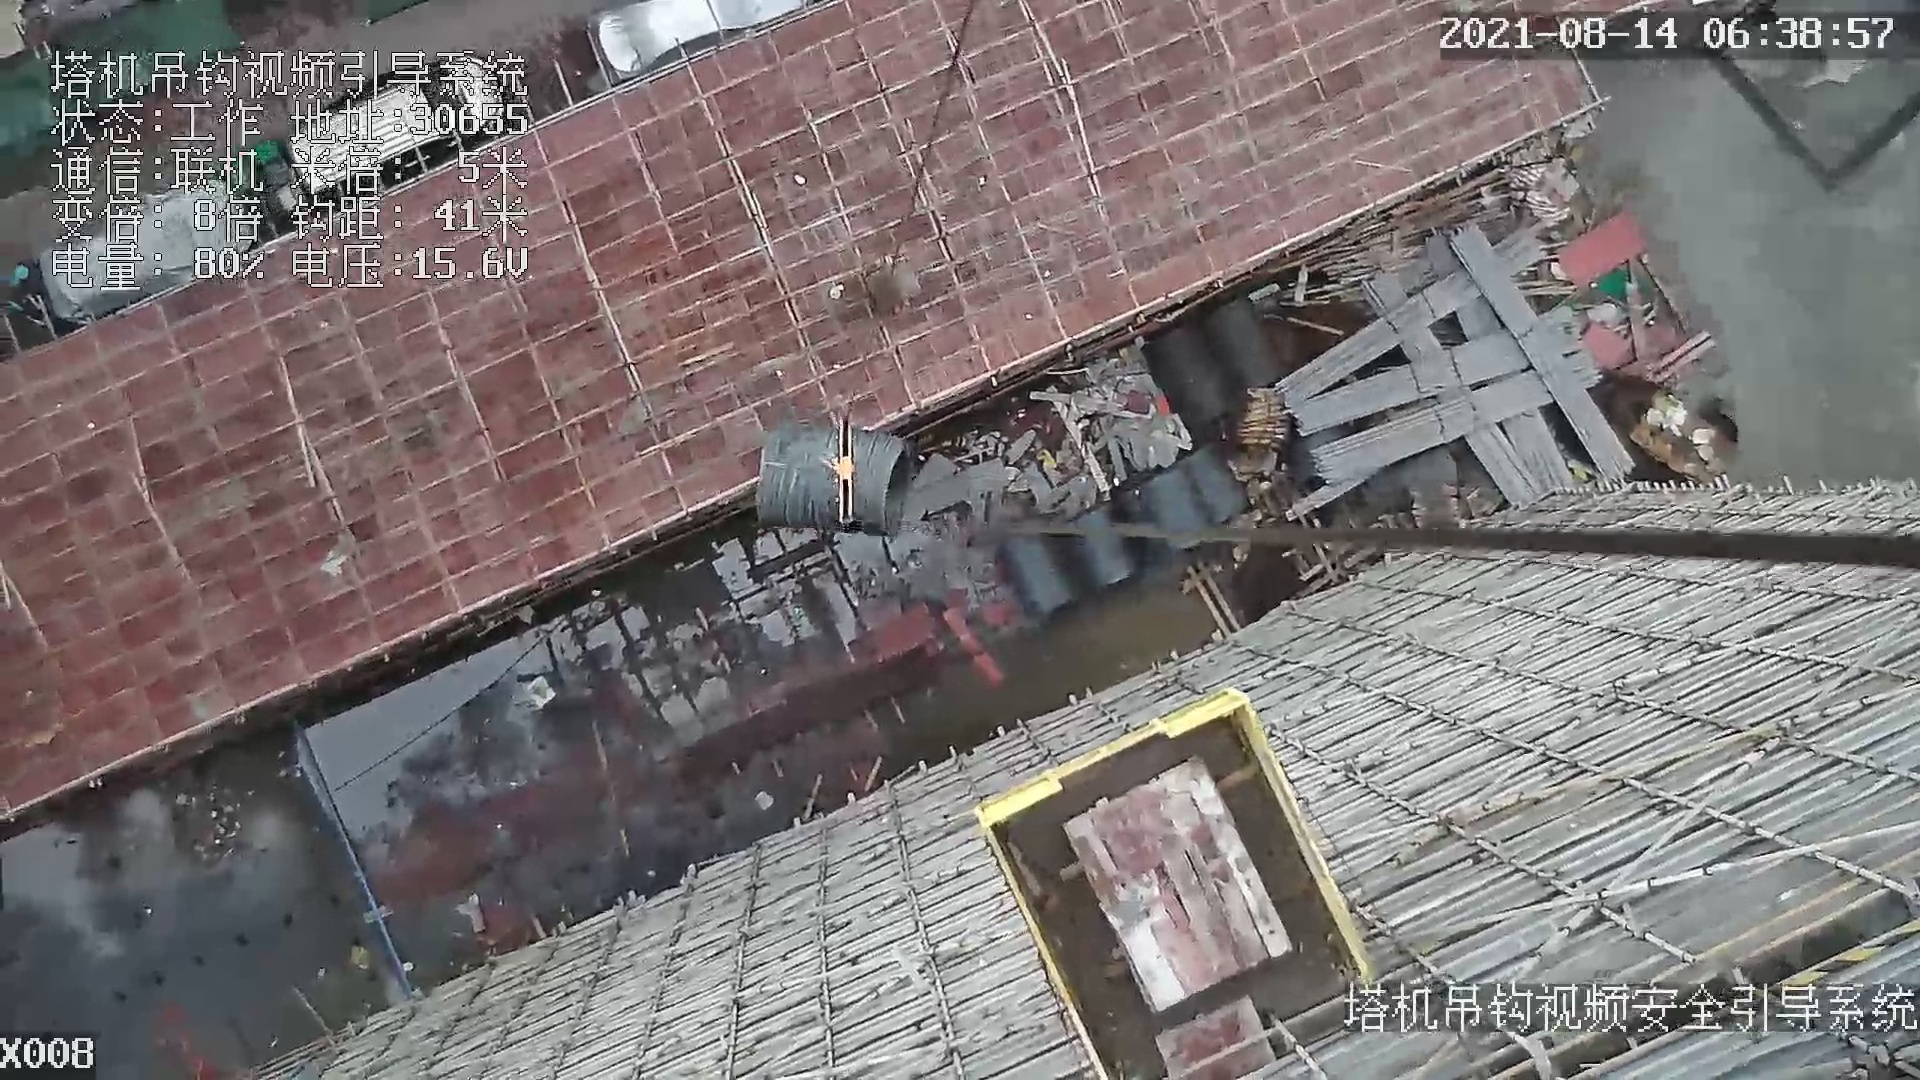hook: (818, 418, 858, 522)
